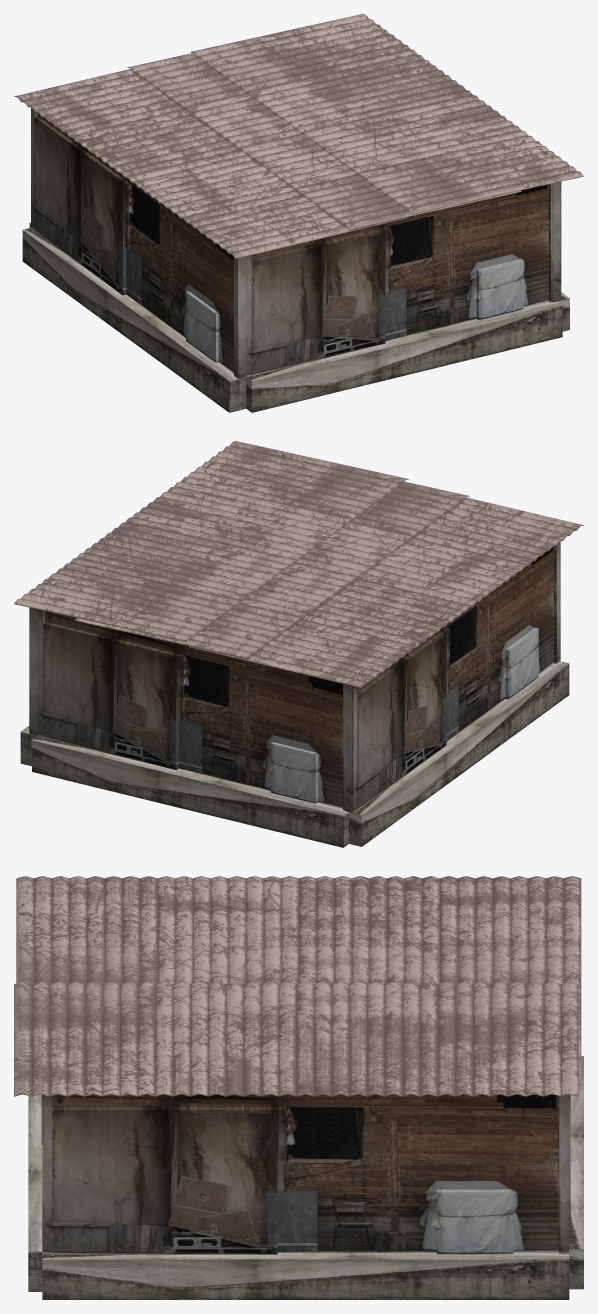
The model's file is casa_izquierda_06.fbx.
3 views of the same model, one above another, from view 1: azimuth 30°, elevation 25°; view 2: azimuth 150°, elevation 25°; view 3: azimuth 270°, elevation 25° (orthographic). The views are drawn at different scales.
Visible parts, largest first — view 1: Techo 06, casa_izquierda_06.002, casa_izquierda_06.001, casa_izquierda_06.003; view 2: Techo 06, casa_izquierda_06.004, casa_izquierda_06.001, casa_izquierda_06.003; view 3: Techo 06, casa_izquierda_06.003, casa_izquierda_06.004, casa_izquierda_06.002.
Boxes of the visible parts, x1,y1,x2,y2 form: Techo 06: (14,14,583,258); casa_izquierda_06.002: (246,183,562,412); casa_izquierda_06.001: (22,108,246,412); casa_izquierda_06.003: (552,181,569,331); Techo 06: (14,441,583,688); casa_izquierda_06.004: (32,609,348,847); casa_izquierda_06.001: (344,541,569,846); casa_izquierda_06.003: (20,607,37,766); Techo 06: (14,876,581,1096); casa_izquierda_06.003: (42,1094,569,1299); casa_izquierda_06.004: (569,1056,583,1289); casa_izquierda_06.002: (28,1094,42,1291).
Size of the model in its own units: 838 by 385 by 934.
